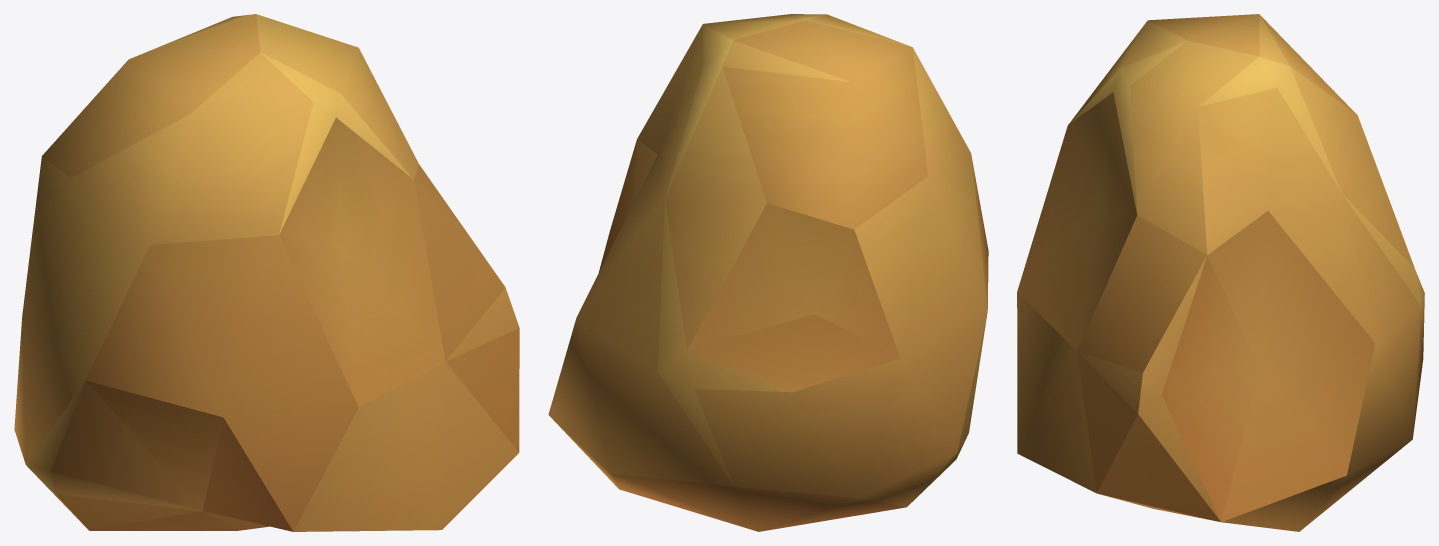
File: gold_nugget_large.glb
The picture shows the model from 3 angles, left to right: view 1: azimuth 30°, elevation 25°; view 2: azimuth 150°, elevation 25°; view 3: azimuth 270°, elevation 25°; orthographic projection. The views are drawn at different scales.
Parts seen in each view (by area): view 1: Gold_Nugget_Large; view 2: Gold_Nugget_Large; view 3: Gold_Nugget_Large.
Part boxes in pixels (x1,y1,x2,y2): Gold_Nugget_Large: (14,14,519,531); Gold_Nugget_Large: (548,14,988,531); Gold_Nugget_Large: (1017,14,1424,531).
Size of the model in its own units: 0.4271 by 0.4656 by 0.3947.
1 material, 1 textured.
